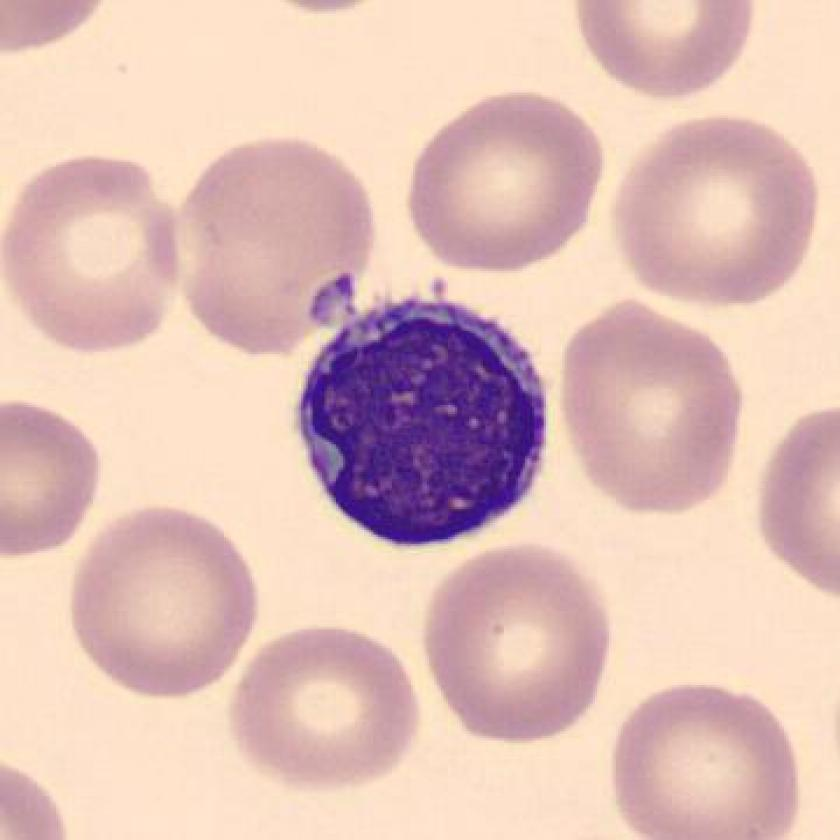lymphocyte: (274, 265, 570, 566)
